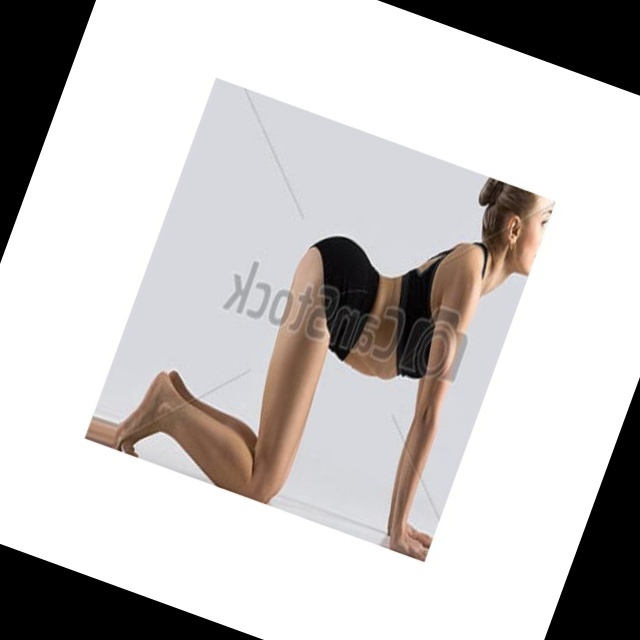Cow_Pose: (115, 183, 555, 559)
